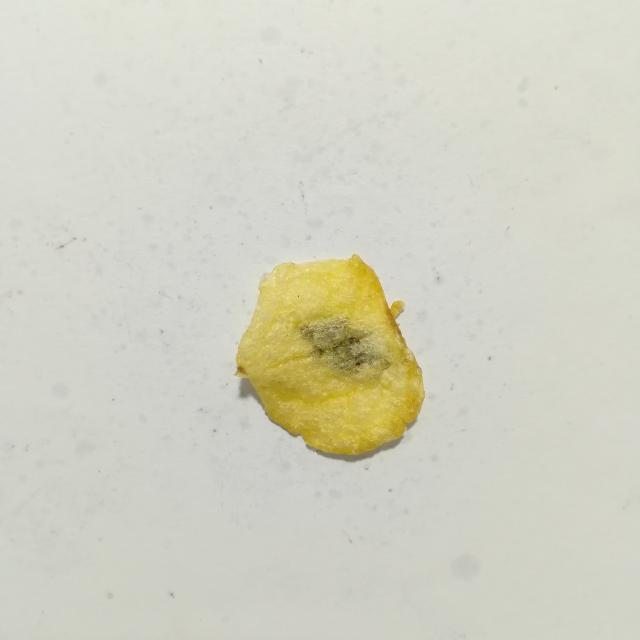chip: (236, 255, 425, 454)
semi-damaged: (300, 318, 389, 377)
